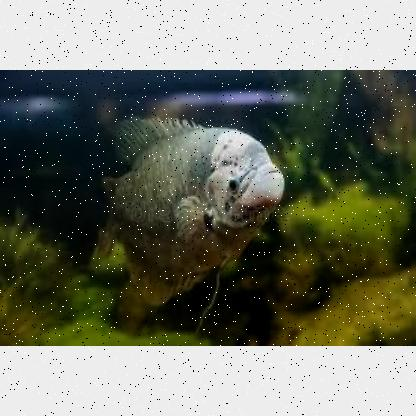gurame: (98, 118, 288, 300)
